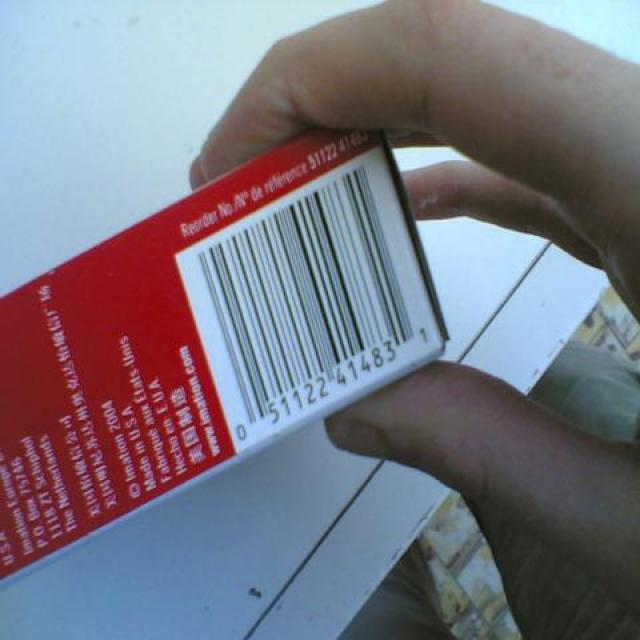Barcode: (172, 144, 444, 451)
